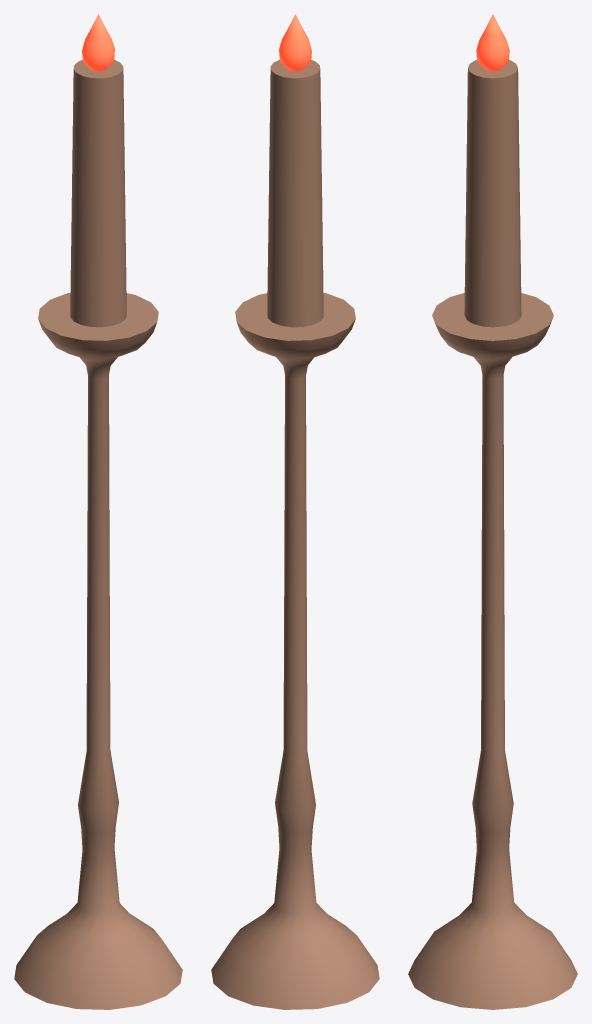
File: BC_InsideCandlestick_A.fbx
3 views of the same model, side by side, from view 1: azimuth 30°, elevation 25°; view 2: azimuth 150°, elevation 25°; view 3: azimuth 270°, elevation 25° (orthographic).
Parts seen in each view (by area): view 1: BC_InsideCandlestick_A; view 2: BC_InsideCandlestick_A; view 3: BC_InsideCandlestick_A.
Boxes of the visible parts, x1,y1,x2,y2 form: BC_InsideCandlestick_A: (14, 14, 182, 1009); BC_InsideCandlestick_A: (211, 14, 379, 1009); BC_InsideCandlestick_A: (408, 14, 577, 1009).
Bounding box in the file's own units: 62.98 × 393 × 62.98.
